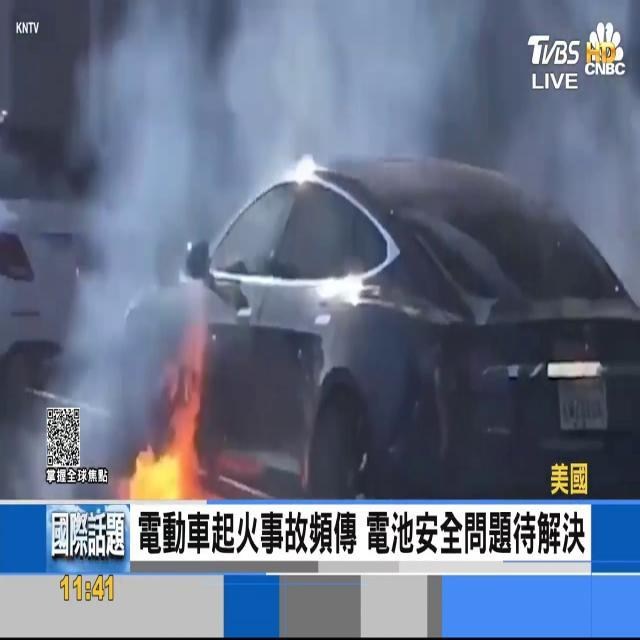Fire: (126, 372, 214, 504)
Smoke: (59, 1, 261, 396), (429, 0, 640, 260)
